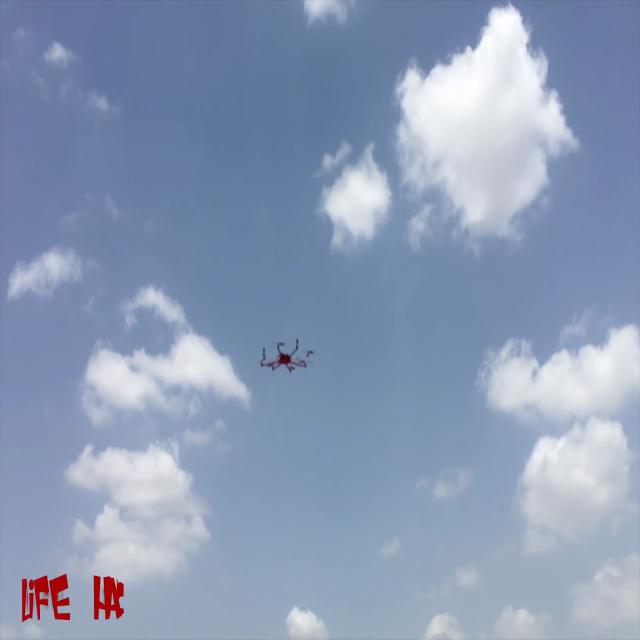drone: (266, 327, 315, 387)
